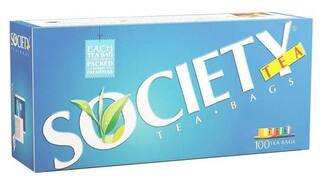society: (35, 29, 308, 169)
